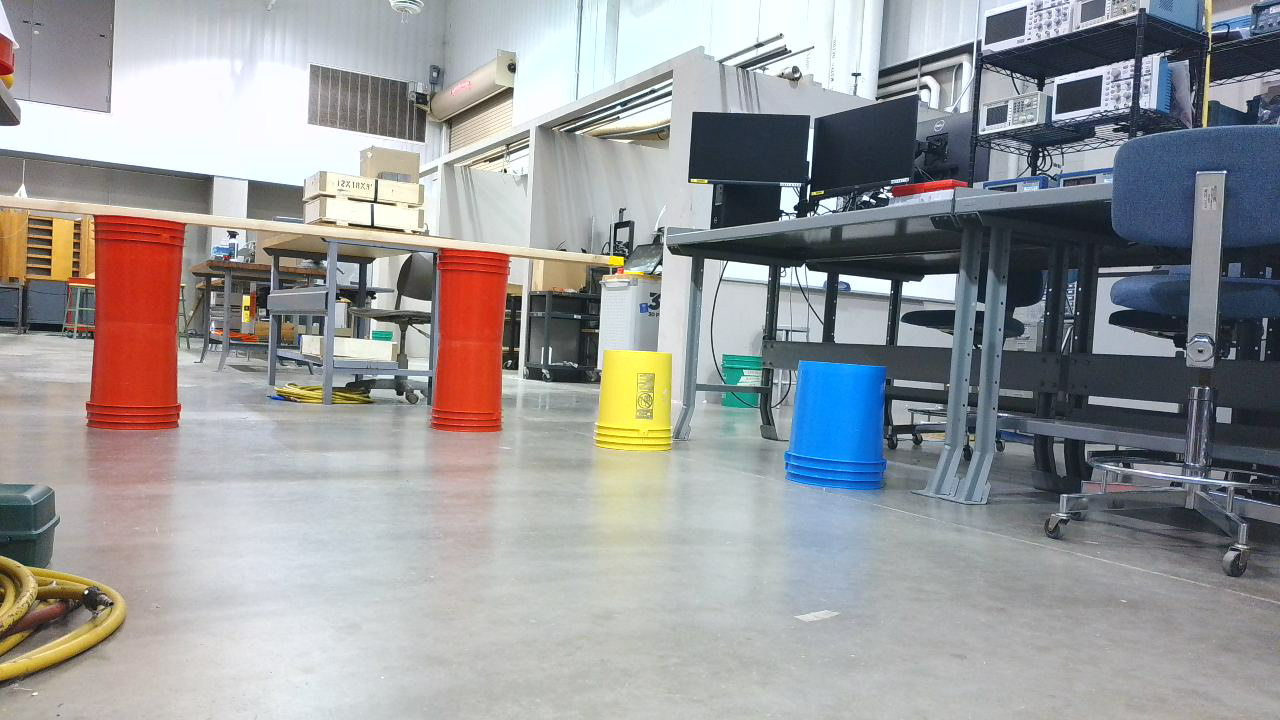blue_bucket: (787, 359, 900, 499)
red_bucket_arch: (88, 214, 518, 442)
yellow_bucket: (595, 350, 681, 460)
